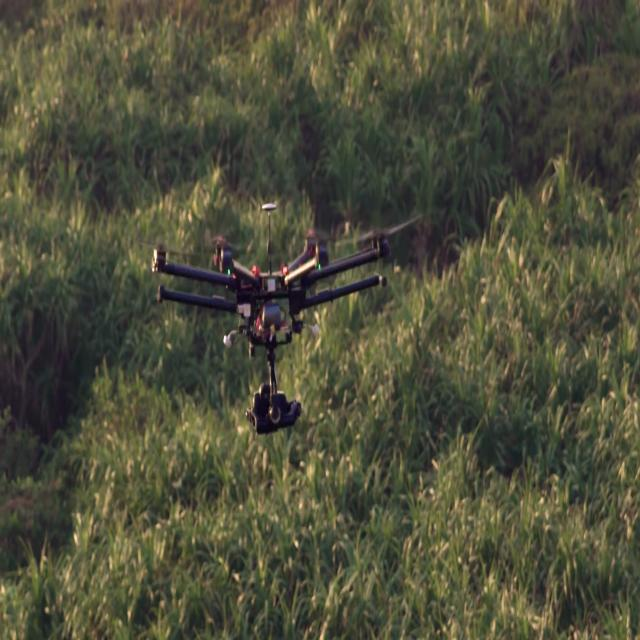drone: (163, 180, 381, 449)
